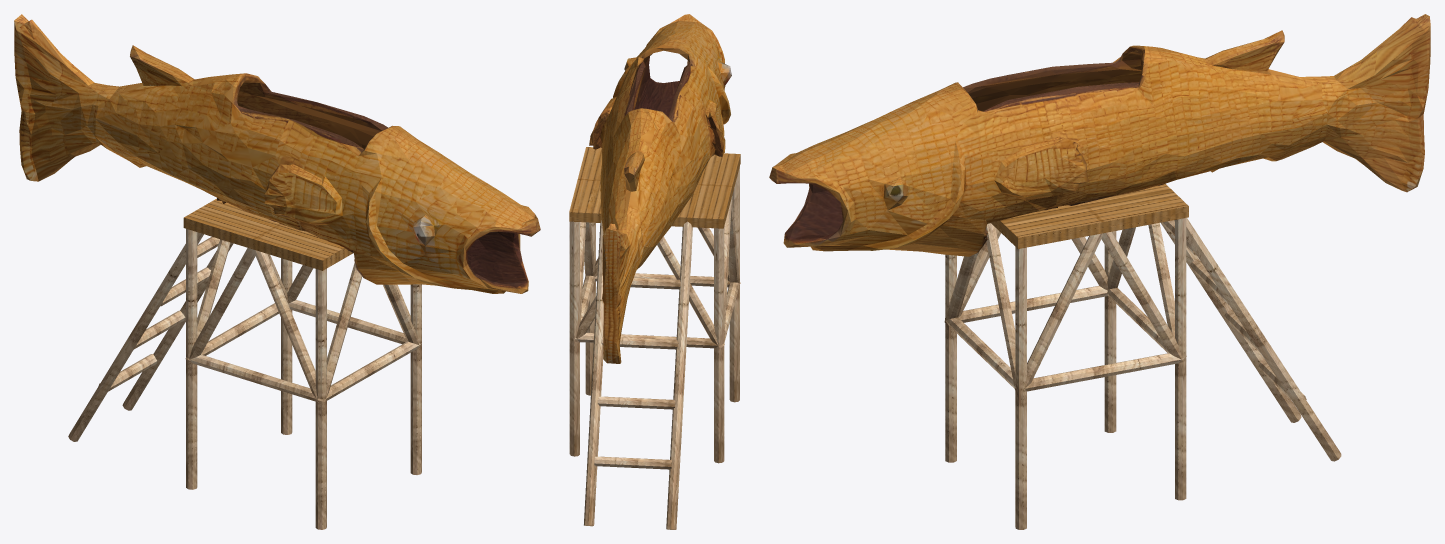
The model's file is pez_totora.glb.
The picture shows the model from 3 angles, left to right: view 1: azimuth 30°, elevation 25°; view 2: azimuth 150°, elevation 25°; view 3: azimuth 270°, elevation 25°; orthographic projection. The views are drawn at different scales.
Visible parts, largest first — view 1: Cylinder.013; view 2: Cylinder.013; view 3: Cylinder.013.
Part boxes in pixels (bbox=[...]): Cylinder.013: bbox=[14, 14, 540, 529]; Cylinder.013: bbox=[569, 14, 740, 529]; Cylinder.013: bbox=[769, 14, 1430, 529].
Bounding box in the file's own units: 2.89 × 4.45 × 6.26.
3 materials, 3 textured.
